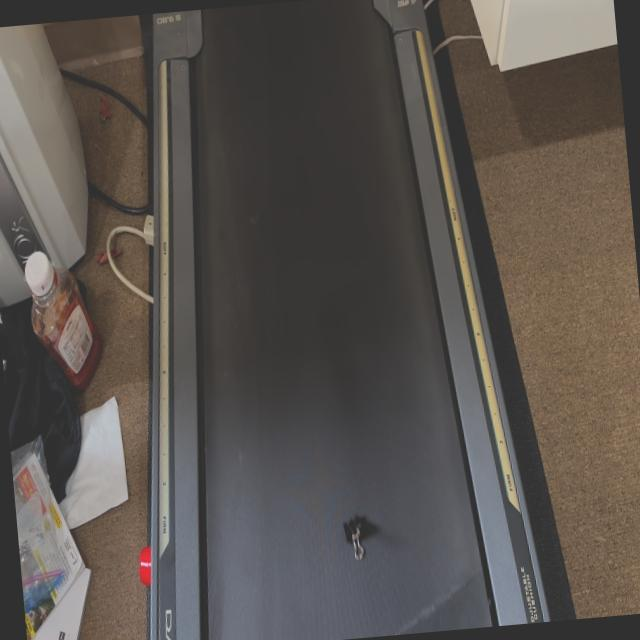Trash: (342, 512, 368, 564)
